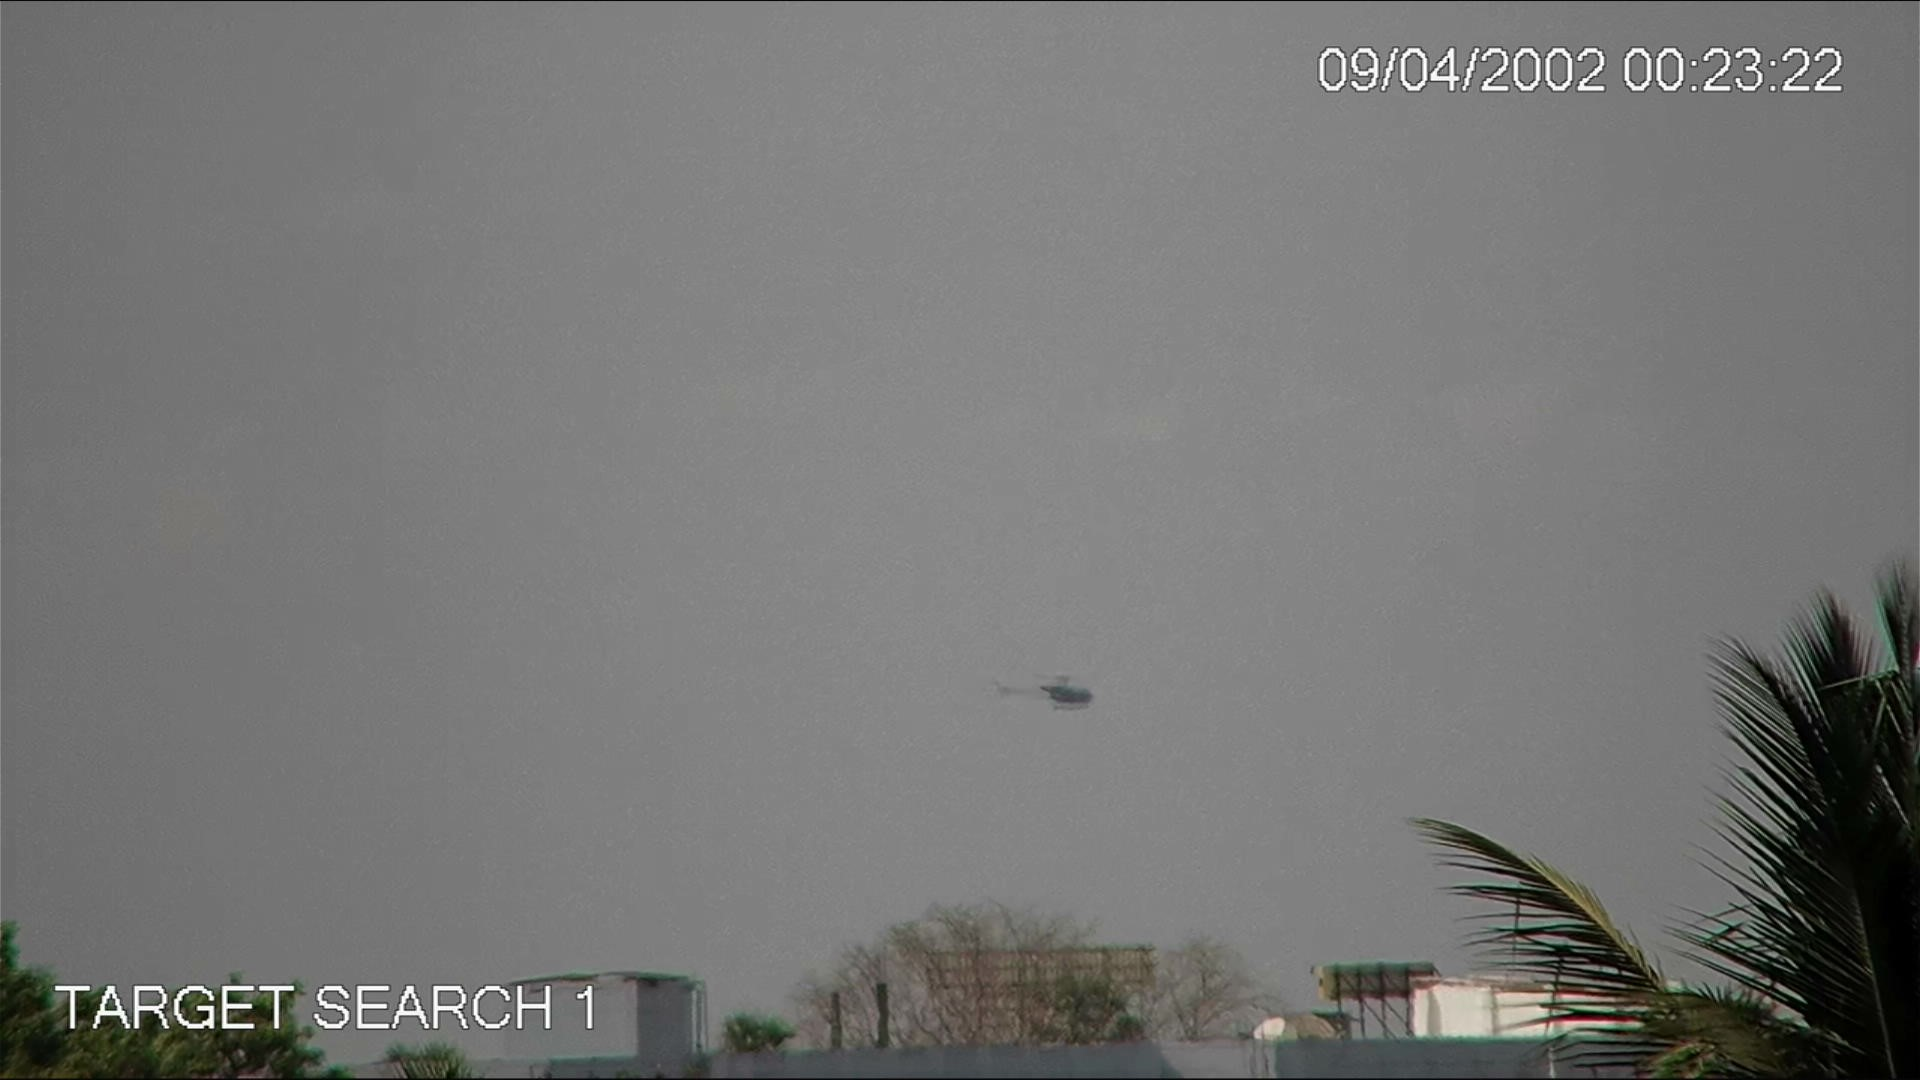SU_30: (986, 667, 1095, 713)
